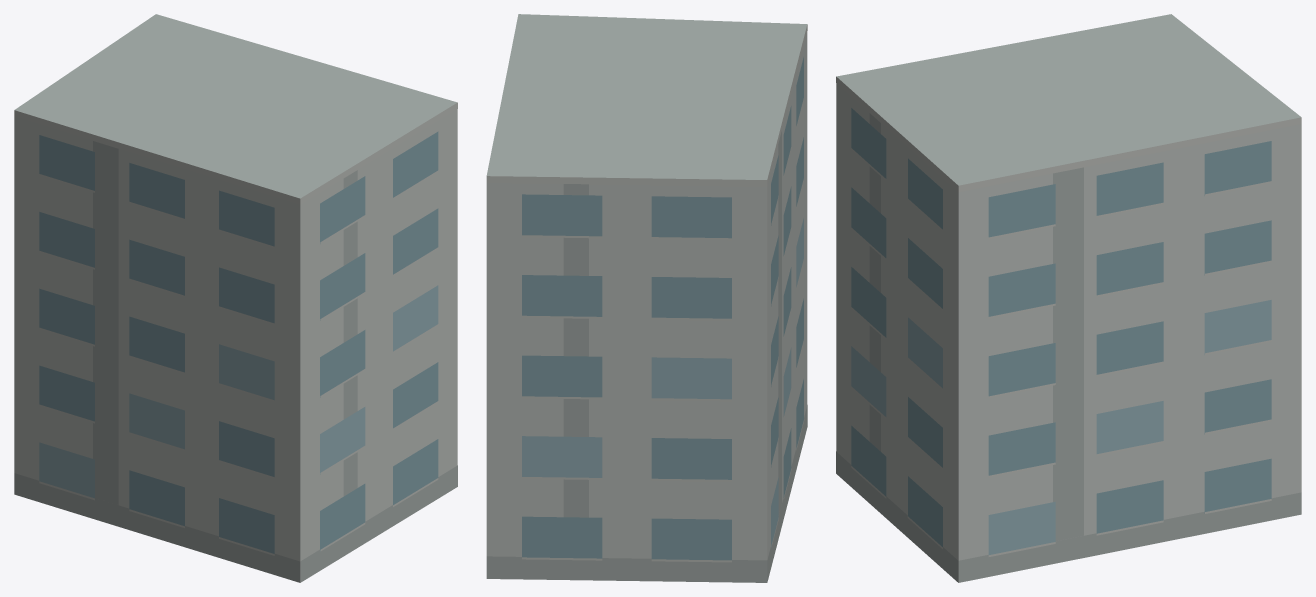
Rendered from survey-upis-32748247.glb.
The picture shows the model from 3 angles, left to right: view 1: azimuth 30°, elevation 25°; view 2: azimuth 150°, elevation 25°; view 3: azimuth 270°, elevation 25°; orthographic projection. The views are drawn at different scales.
Visible parts, largest first — view 1: survey-upis-32748247.tmp; view 2: survey-upis-32748247.tmp; view 3: survey-upis-32748247.tmp.
Part boxes in pixels (x1,y1,x2,y2): survey-upis-32748247.tmp: [14, 14, 457, 582]; survey-upis-32748247.tmp: [486, 14, 807, 582]; survey-upis-32748247.tmp: [836, 14, 1301, 582].
Bounding box in the file's own units: 13.54 × 14.6 × 15.51.
